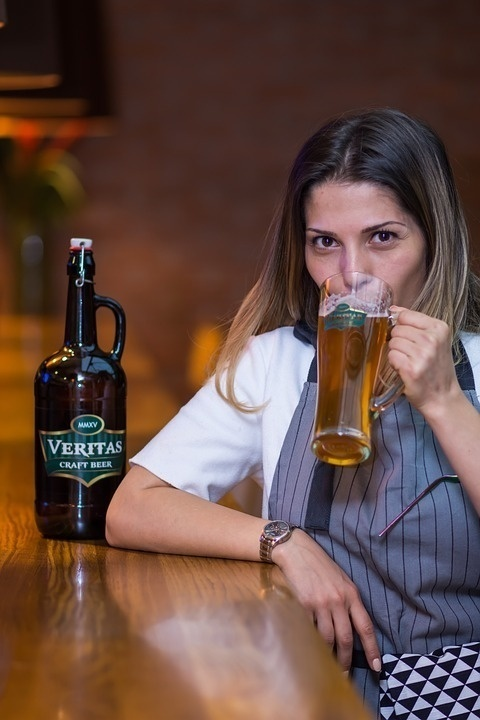whiskey: (299, 280, 393, 467)
